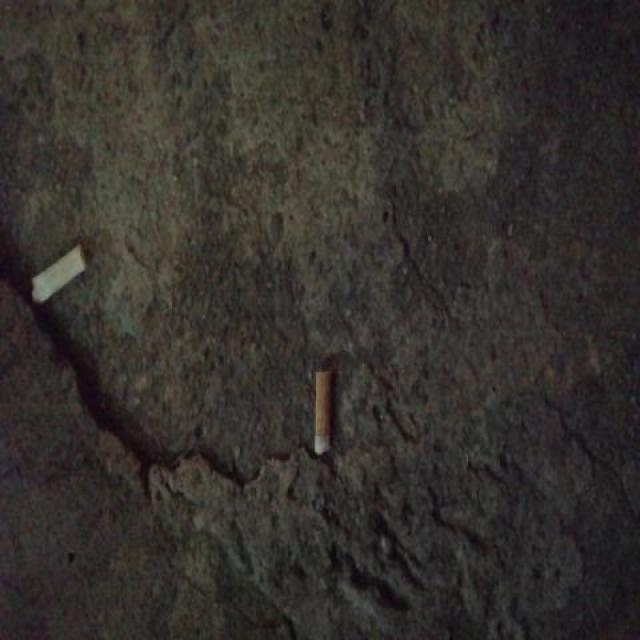non-organic waste: (26, 242, 91, 310), (312, 365, 336, 462)
